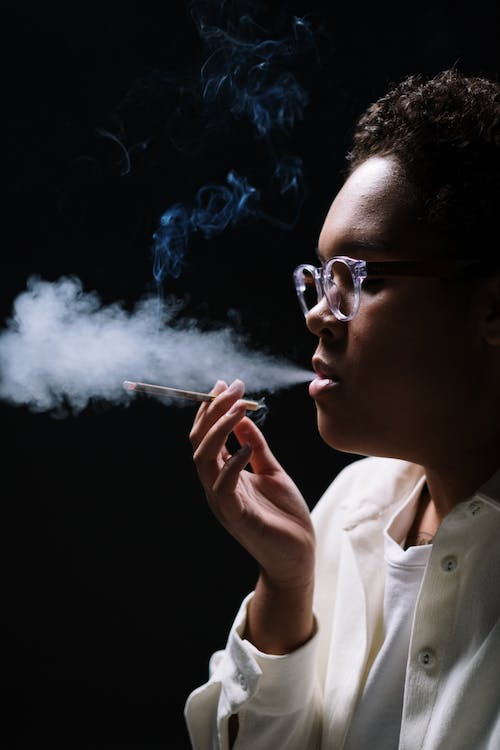cigarette: (121, 377, 262, 413)
